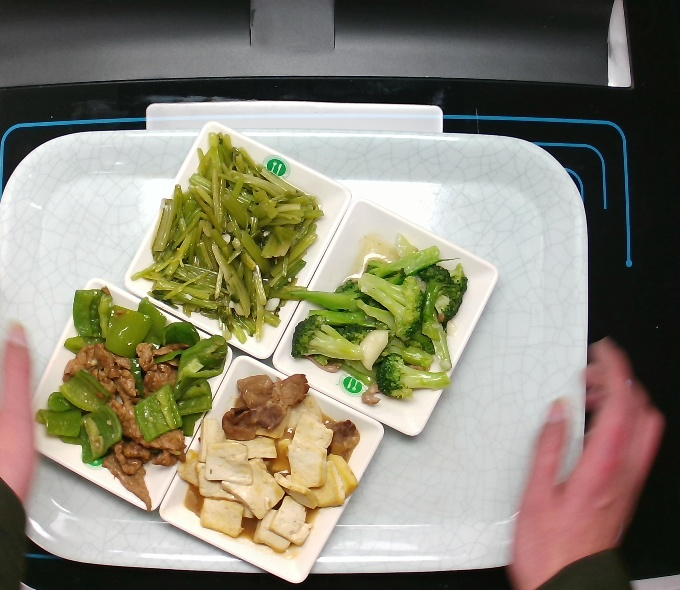wcq-DouFuRouPian: (185, 364, 367, 555)
wcq-QinCai: (142, 133, 322, 341)
wcq-QingJiaoChaoRou: (43, 282, 227, 512)
wcq-XiLanHua: (290, 246, 481, 399)
